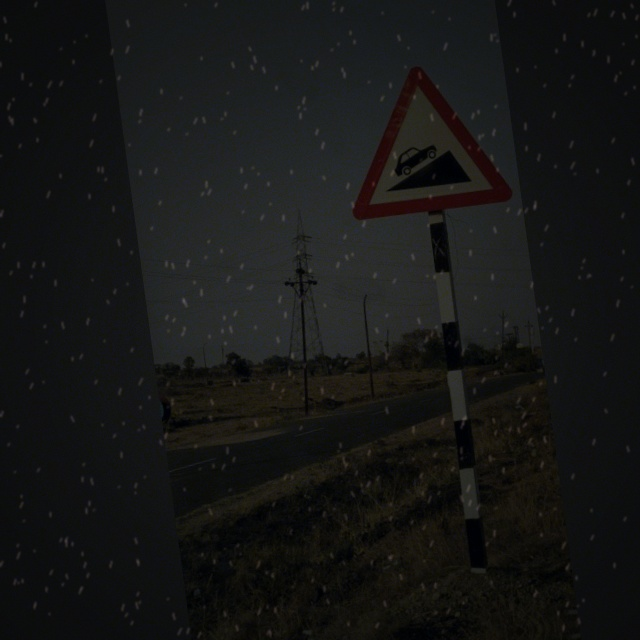Steep_Ascent: (326, 51, 518, 230)
